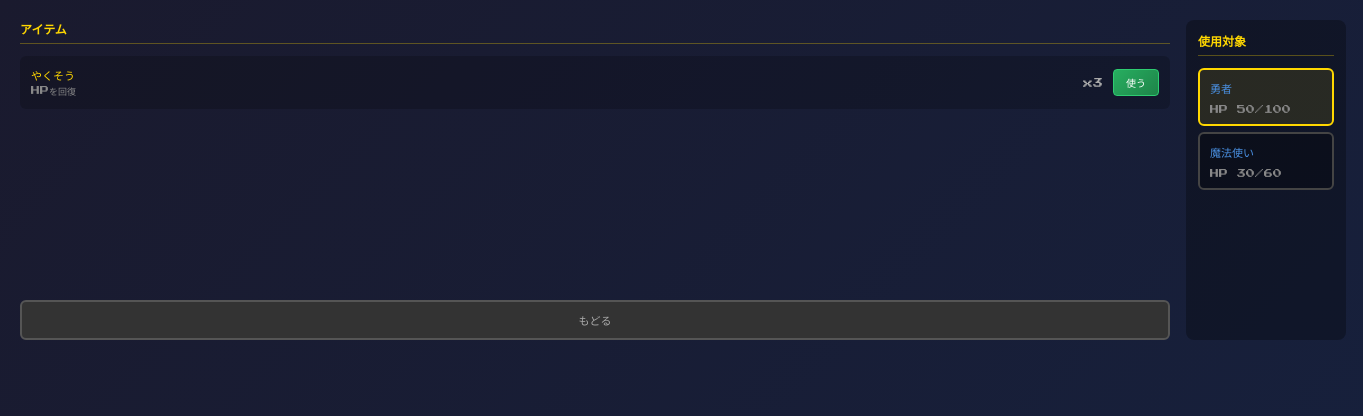
ItemsPanel › アイテム使用 › 使用成功時にメッセージが表示される
Click the button "使う": (1136, 82) [1113,69,1159,96]
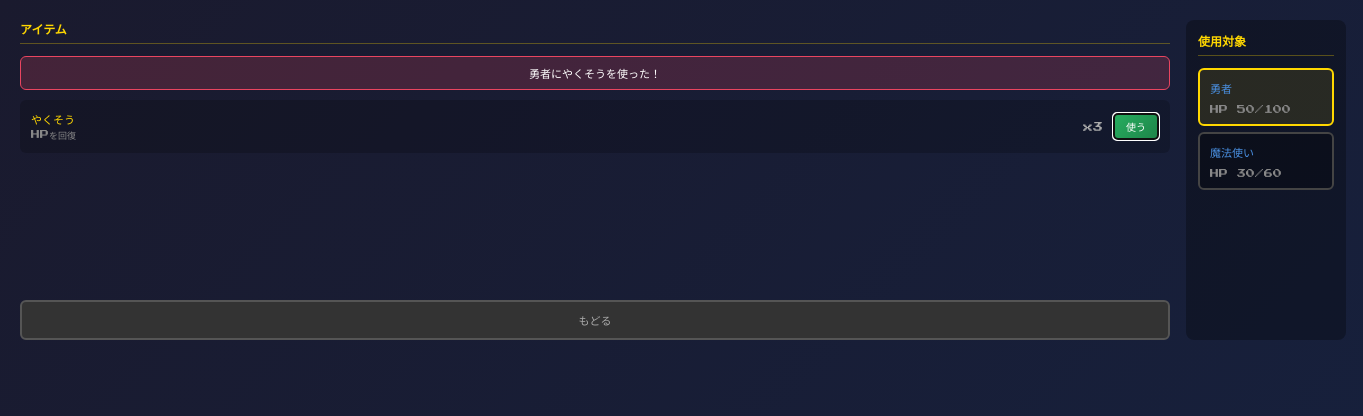
Now the text "勇者にやくそうを使った！" is shown, box [20,56,1170,90]
